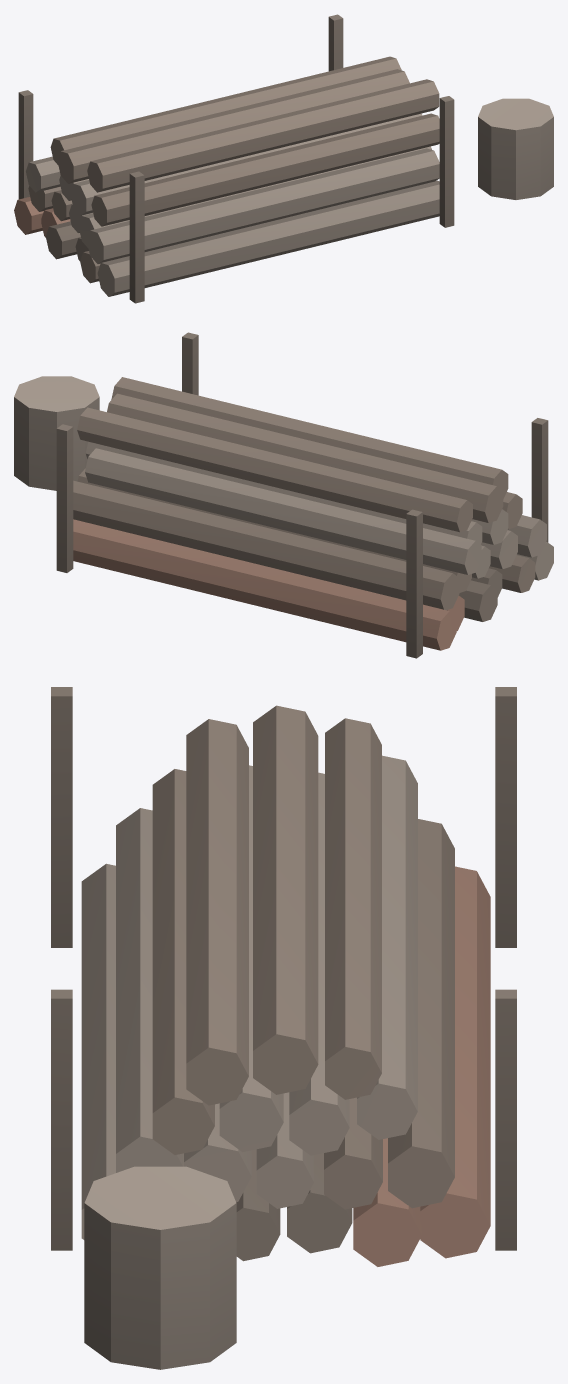
The model's file is woodpile_1.glb.
The picture shows the model from 3 angles, top to bottom: view 1: azimuth 30°, elevation 25°; view 2: azimuth 150°, elevation 25°; view 3: azimuth 270°, elevation 25°; orthographic projection. The views are drawn at different scales.
Visible parts, largest first — view 1: woodpile_1; view 2: woodpile_1; view 3: woodpile_1.
Boxes of the visible parts, x1=… form: woodpile_1: x1=14, y1=14, x2=553, y2=303; woodpile_1: x1=14, y1=332, x2=553, y2=658; woodpile_1: x1=51, y1=687, x2=516, y2=1369.
Bounding box in the file's own units: 3.44 × 0.9068 × 1.51.
